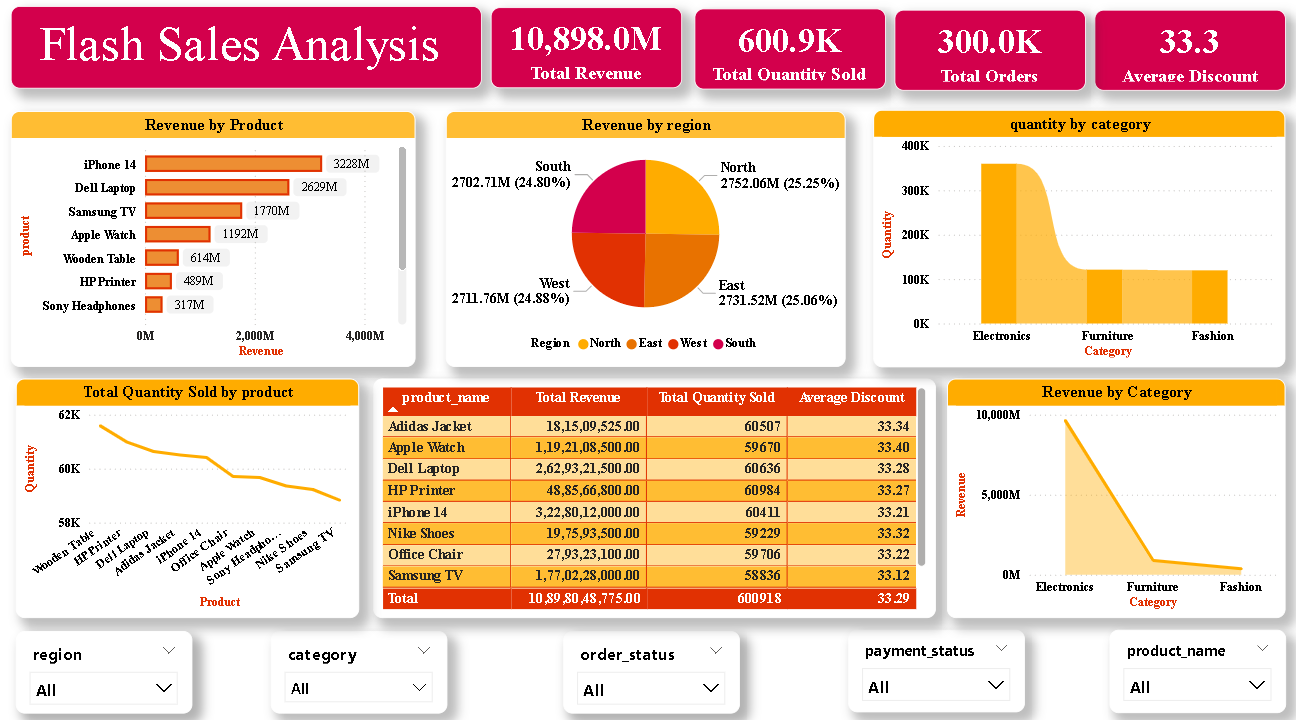

This screenshot's page, from the dashboard's own definition file:
{"tool":"powerbi","page":{"name":"Page 1","canvas":[1280,720],"ordinal":0},"visuals":[{"type":"textbox","box":[13.5,14.7,461,80.7],"z":0},{"type":"card","fields":{"Values":["flash_sale_analytics.Total Revenue"]},"box":[483,15.9,187.1,79.5],"z":1000},{"type":"slicer","fields":{"Values":["flash_sale_analytics.order_status"]},"box":[553.9,626.1,172.4,80.7],"z":2000},{"type":"slicer","fields":{"Values":["flash_sale_analytics.category"]},"box":[267.8,626.1,172.4,80.7],"z":3000},{"type":"slicer","fields":{"Values":["flash_sale_analytics.payment_status"]},"box":[832.7,624.9,172.4,80.7],"z":4000},{"type":"barChart","title":"Revenue by Product","fields":{"Category":["flash_sale_analytics.product_name"],"Y":["Sum(flash_sale_analytics.total_revenue)"]},"box":[13.5,117.4,396.2,250.7],"z":5000},{"type":"tableEx","fields":{"Values":["flash_sale_analytics.product_name","flash_sale_analytics.Total Revenue","flash_sale_analytics.Total Quantity Sold","flash_sale_analytics.Average Discount"]},"box":[368.1,379.1,550.3,234.8],"z":6000},{"type":"ribbonChart","fields":{"Y":["Sum(flash_sale_analytics.quantity)"],"Category":["flash_sale_analytics.category"]},"box":[857.2,116.2,403.5,251.9],"z":7000},{"type":"areaChart","title":"Revenue by Category","fields":{"Category":["flash_sale_analytics.category"],"Y":["Sum(flash_sale_analytics.total_revenue)"]},"box":[929.4,379.1,331.4,234.8],"z":8000},{"type":"lineChart","title":"Total Quantity Sold by product","fields":{"Category":["flash_sale_analytics.product_name"],"Y":["flash_sale_analytics.Total Quantity Sold"]},"box":[18.3,379.1,336.3,234.8],"z":9000},{"type":"pieChart","title":"Revenue by region","fields":{"Category":["flash_sale_analytics.region"],"Y":["Sum(flash_sale_analytics.total_revenue)"]},"box":[439,117.4,391.3,250.7],"z":10000},{"type":"slicer","fields":{"Values":["flash_sale_analytics.product_name"]},"box":[1088.3,624.9,172.4,81.9],"z":12000},{"type":"card","fields":{"Values":["flash_sale_analytics.Total Quantity Sold"]},"box":[682.3,17.1,187.1,79.5],"z":13000},{"type":"card","fields":{"Values":["flash_sale_analytics.Average Discount"]},"box":[1073.6,18.3,187.1,79.5],"z":14000},{"type":"card","fields":{"Values":["flash_sale_analytics.Total Orders"]},"box":[878,18.3,187.1,79.5],"z":15000},{"type":"slicer","fields":{"Values":["flash_sale_analytics.region"]},"box":[18.3,626.1,172.4,80.7],"z":15001}]}

Visuals, with their boxes in screenshot pixels (x1, y1, x2, y2), scaled from the page's 1280x720 canvas onto the 1296x720 screenshot:
textbox: left=14, top=15, right=480, bottom=95
card - flash_sale_analytics.Total Revenue: left=489, top=16, right=678, bottom=95
slicer - flash_sale_analytics.order_status: left=561, top=626, right=735, bottom=707
slicer - flash_sale_analytics.category: left=271, top=626, right=446, bottom=707
slicer - flash_sale_analytics.payment_status: left=843, top=625, right=1018, bottom=706
"Revenue by Product" barChart: left=14, top=117, right=415, bottom=368
tableEx - flash_sale_analytics.product_name x flash_sale_analytics.Total Revenue: left=373, top=379, right=930, bottom=614
ribbonChart - Sum(flash_sale_analytics.quantity) x flash_sale_analytics.category: left=868, top=116, right=1276, bottom=368
"Revenue by Category" areaChart: left=941, top=379, right=1277, bottom=614
"Total Quantity Sold by product" lineChart: left=19, top=379, right=359, bottom=614
"Revenue by region" pieChart: left=444, top=117, right=841, bottom=368
slicer - flash_sale_analytics.product_name: left=1102, top=625, right=1276, bottom=707
card - flash_sale_analytics.Total Quantity Sold: left=691, top=17, right=880, bottom=97
card - flash_sale_analytics.Average Discount: left=1087, top=18, right=1276, bottom=98
card - flash_sale_analytics.Total Orders: left=889, top=18, right=1078, bottom=98
slicer - flash_sale_analytics.region: left=19, top=626, right=193, bottom=707
